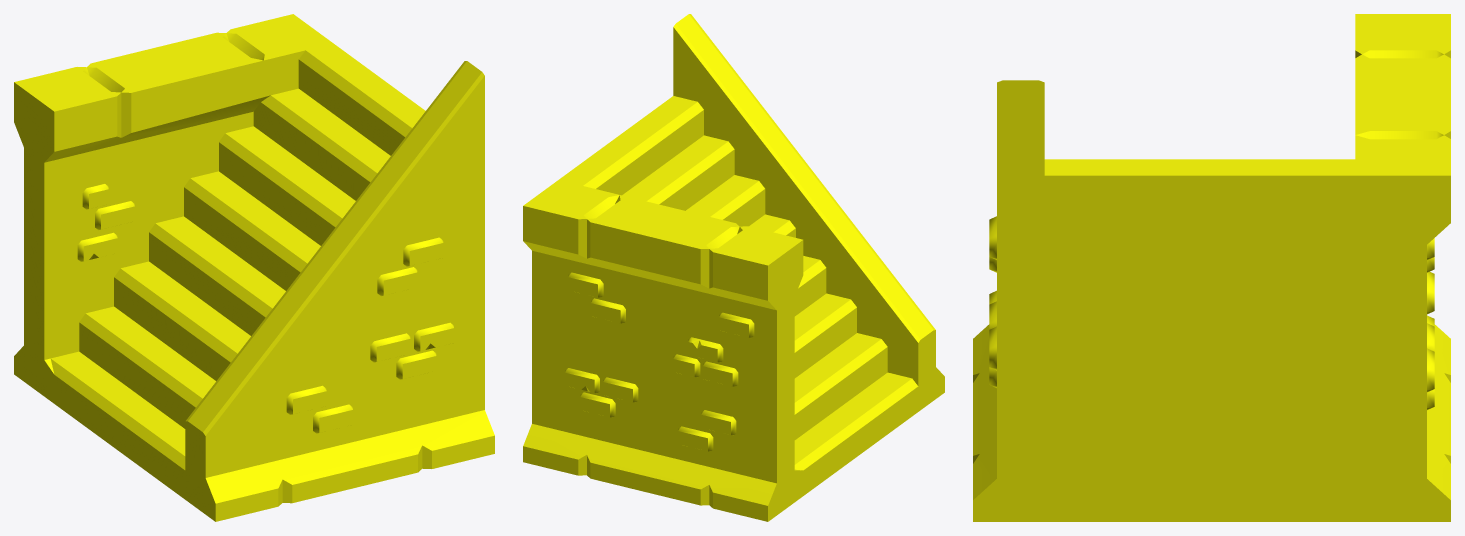
Rendered from kaykit-stairs-wall-right.glb.
3 views of the same model, side by side, from view 1: azimuth 30°, elevation 25°; view 2: azimuth 150°, elevation 25°; view 3: azimuth 270°, elevation 25° (orthographic). The views are drawn at different scales.
Parts seen in each view (by area): view 1: stairs_wall_right; view 2: stairs_wall_right; view 3: stairs_wall_right.
Boxes of the visible parts, x1,y1,x2,y2 form: stairs_wall_right: (14,14,494,521); stairs_wall_right: (523,14,944,521); stairs_wall_right: (973,14,1450,521).
Size of the model in its own units: 4 by 5.1 by 5.
